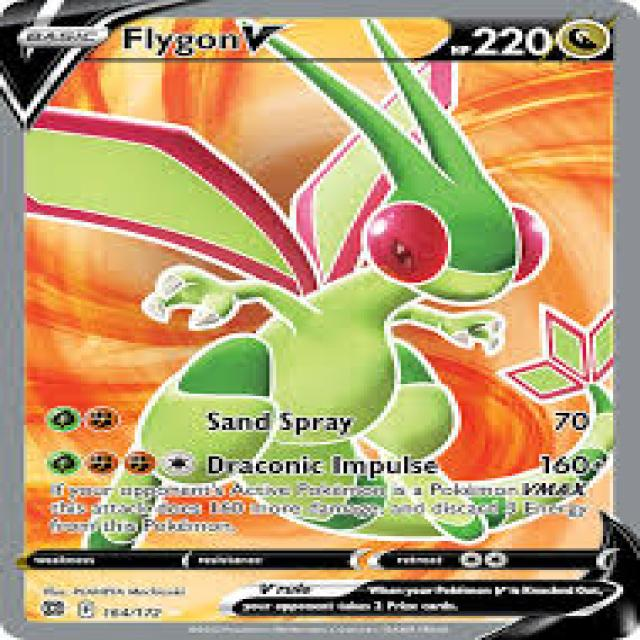flygon: (26, 20, 626, 552)
